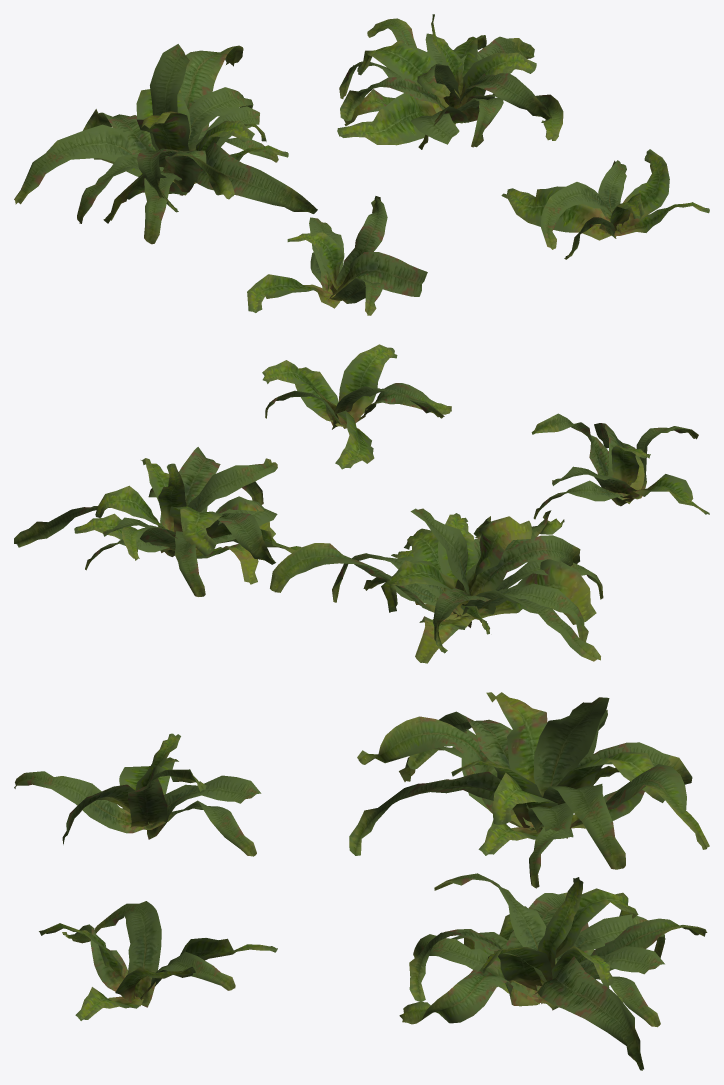
The model's file is fern_02.glb.
The picture shows the model from 3 angles, top to bottom: view 1: azimuth 30°, elevation 25°; view 2: azimuth 150°, elevation 25°; view 3: azimuth 270°, elevation 25°; orthographic projection. The views are drawn at different scales.
Visible parts, largest first — view 1: fern_02_b; view 2: fern_02_b; view 3: fern_02_b.
Boxes of the visible parts, left/top/right/bottom form: fern_02_b: left=14, top=14, right=709, bottom=315; fern_02_b: left=14, top=344, right=709, bottom=663; fern_02_b: left=14, top=692, right=709, bottom=1070.
Size of the model in its own units: 1.97 by 0.4277 by 1.72.
Materials: 1 (1 with a texture image).
